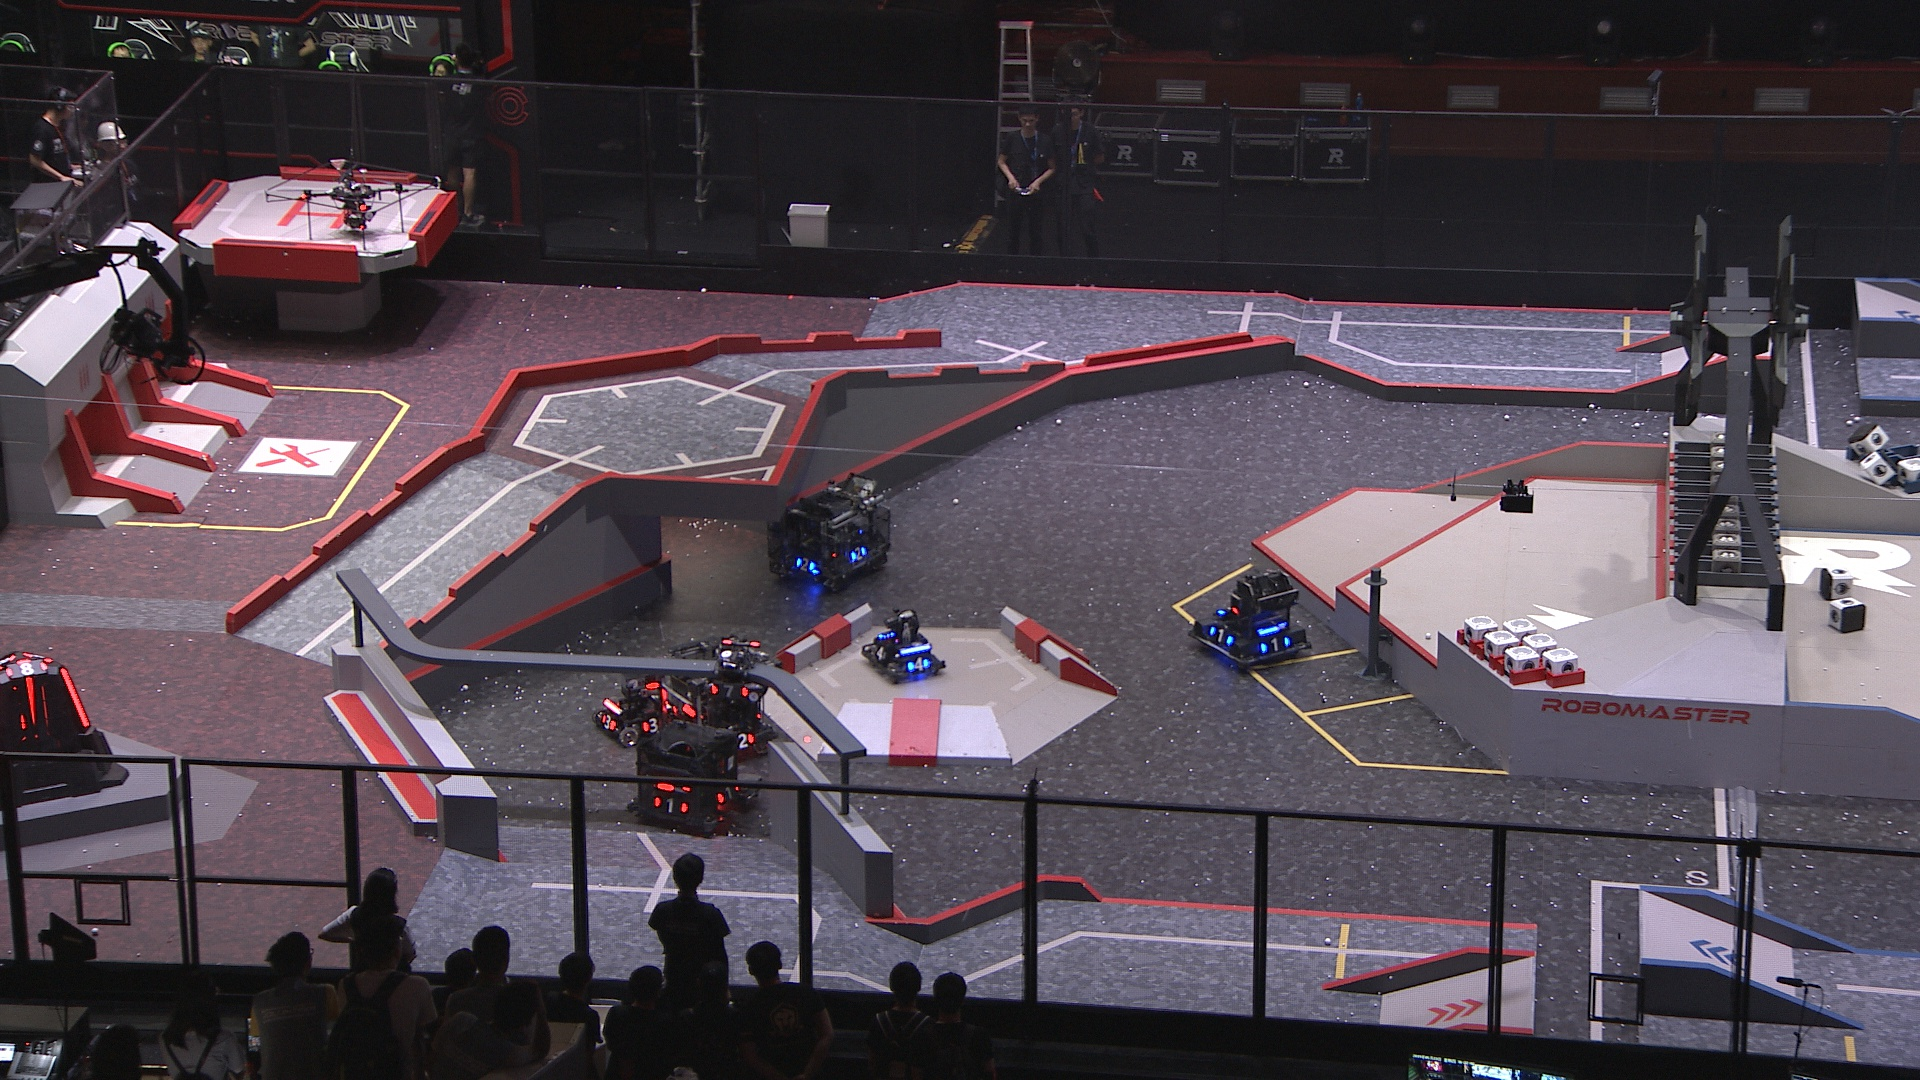armor: (58, 666, 90, 731), (3, 655, 49, 679), (22, 674, 40, 727), (654, 794, 694, 816), (712, 680, 752, 699), (1258, 636, 1294, 654), (713, 783, 742, 806), (636, 713, 666, 735), (732, 731, 754, 754), (1209, 626, 1234, 647), (905, 655, 931, 675), (597, 713, 618, 735), (872, 642, 891, 662), (795, 555, 818, 572), (851, 545, 868, 560)
car: (654, 636, 781, 767), (769, 469, 899, 589), (632, 717, 764, 833), (1185, 566, 1313, 671), (858, 608, 949, 684), (593, 669, 680, 746)
watcher: (702, 638, 766, 731)
